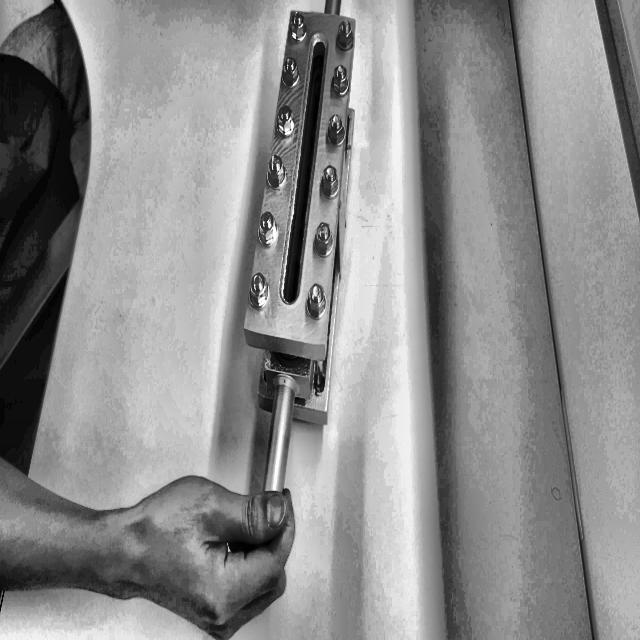ShuiWeiQi_12: (232, 0, 379, 494)
